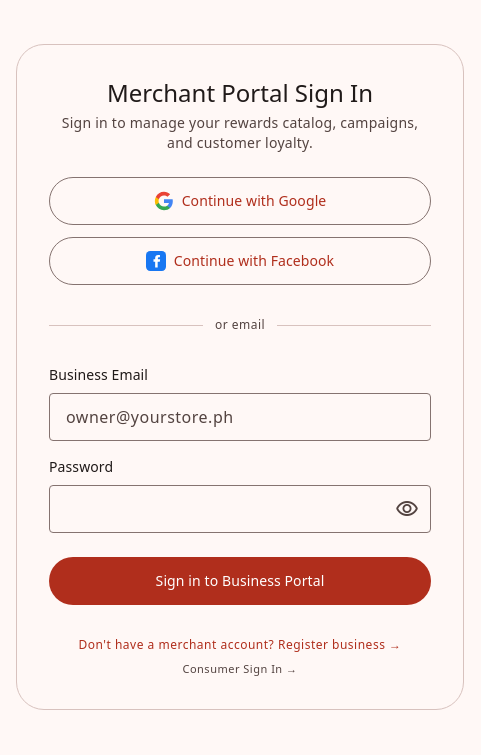
where a merchant lands after signing in (G1 section 3) › does not navigate when the credentials were refused
Type "owner@kapediaria.ph" into the field labelled "Business Email". click: (240,417)
box: [49,393,431,441]
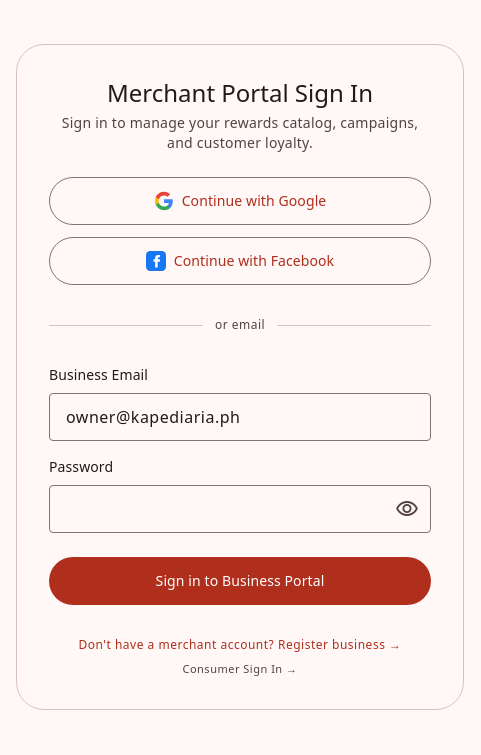
Type "hunter2hunter2" into the password field labelled "Password". click: (240,509)
box: [49,485,431,533]
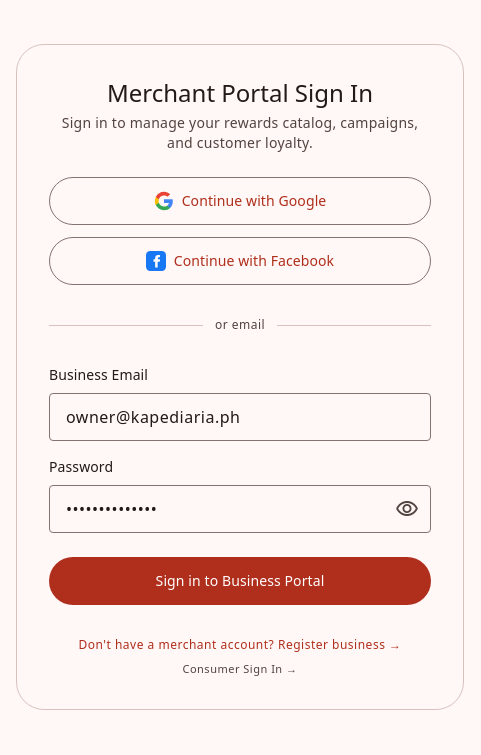
Click the button "Sign in to Business Portal". click: (240,581)
box: [49,557,431,605]
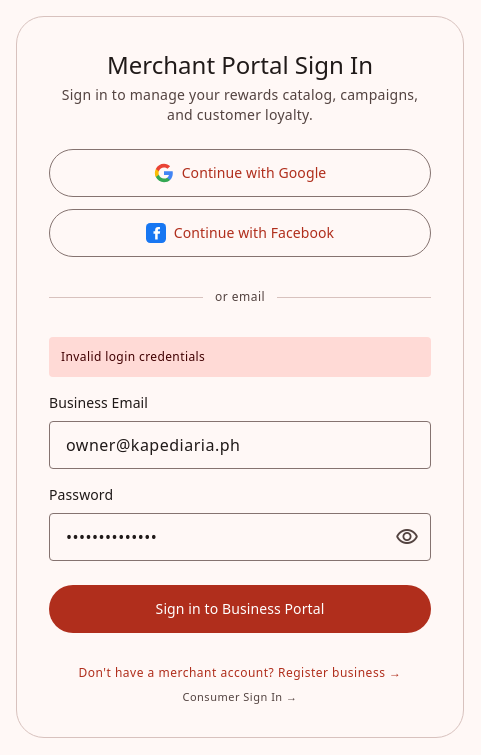
Expected: the text "Invalid login credentials" is shown, [49,337,431,377]
